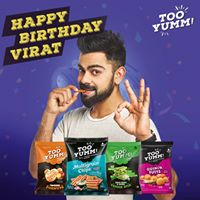plastic: (35, 142, 173, 191)
tooyumm: (150, 4, 195, 40), (73, 142, 100, 159), (111, 150, 135, 163), (144, 149, 166, 163), (48, 148, 63, 160)
wrapper: (65, 138, 109, 194), (34, 141, 74, 194), (134, 141, 173, 192), (105, 142, 141, 193)
